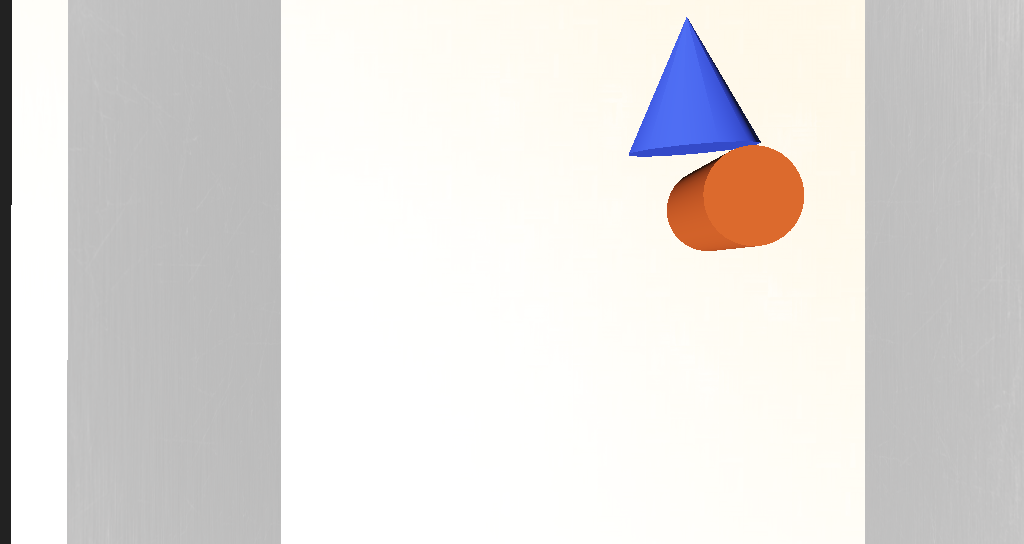cone: (552, 227, 606, 260)
cylinder: (529, 172, 603, 229)
sphere: (691, 174, 778, 236)
